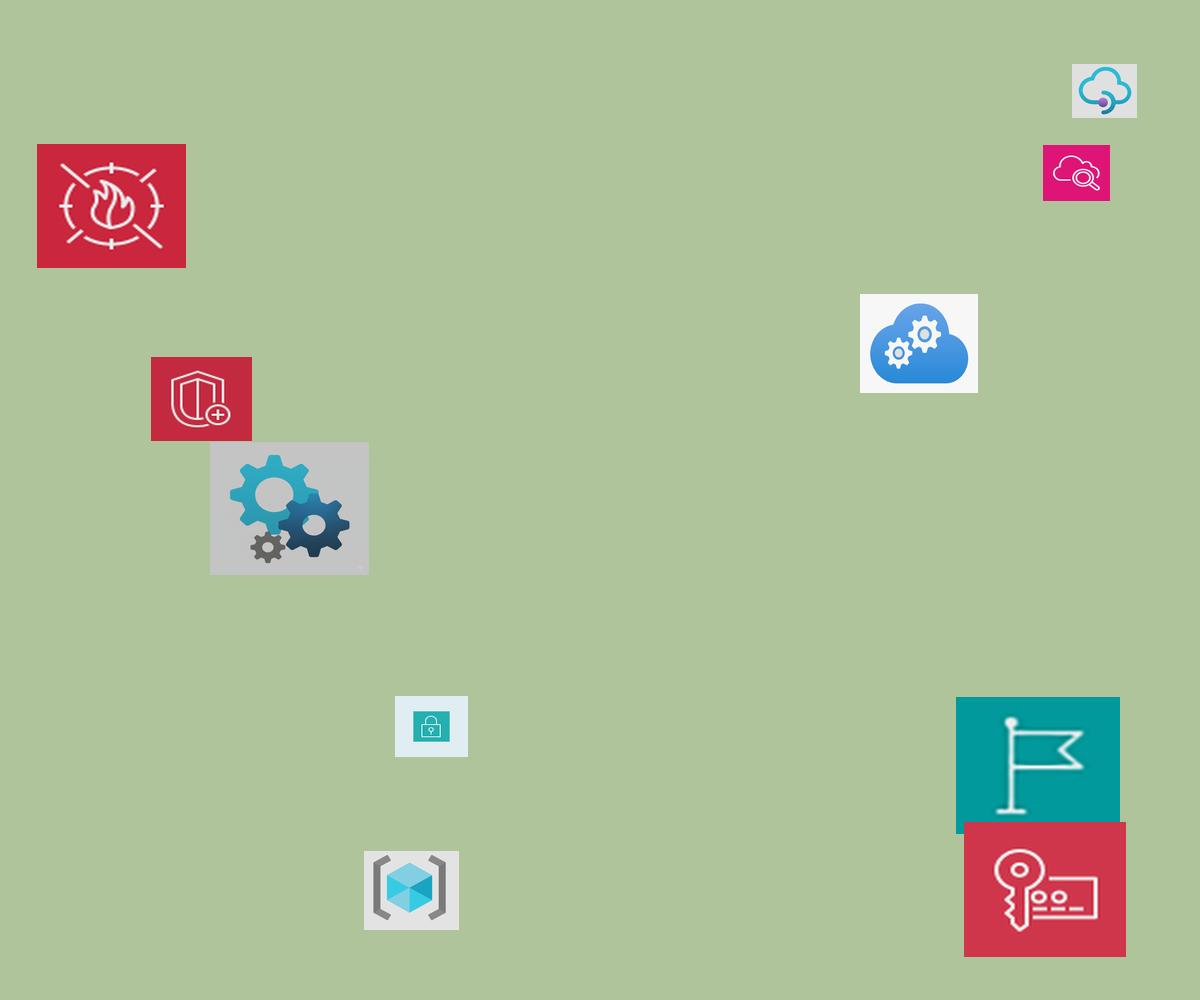AWS-CloudWatch: (1043, 145, 1110, 201)
AWS-Key-Management-Service: (964, 822, 1126, 957)
AWS-Private-subnet: (395, 696, 468, 757)
AWS-Region: (956, 697, 1120, 834)
AWS-Shield: (151, 357, 252, 441)
AWS-WAF: (37, 144, 186, 268)
Azure_api: (210, 442, 369, 575)
Azure_api_gateway: (1072, 64, 1137, 118)
Azure_cloud_services: (860, 294, 978, 393)
Azure_resource_group: (364, 851, 459, 930)
